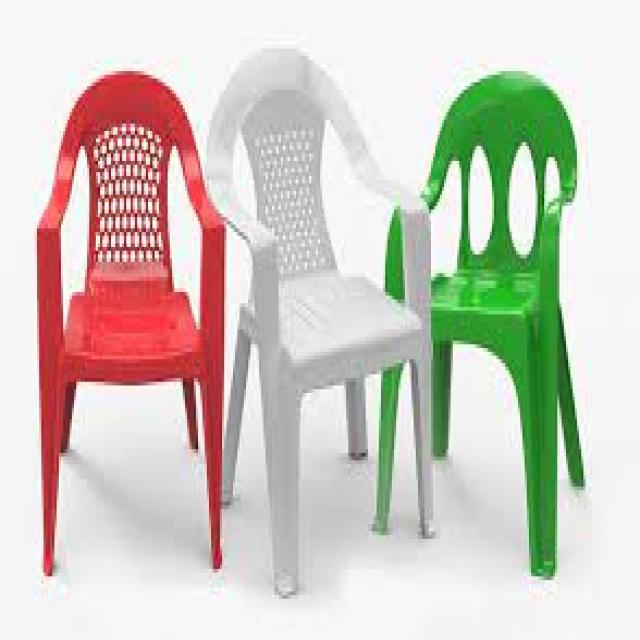chair: (202, 31, 444, 608), (369, 58, 602, 606), (28, 54, 256, 610)
